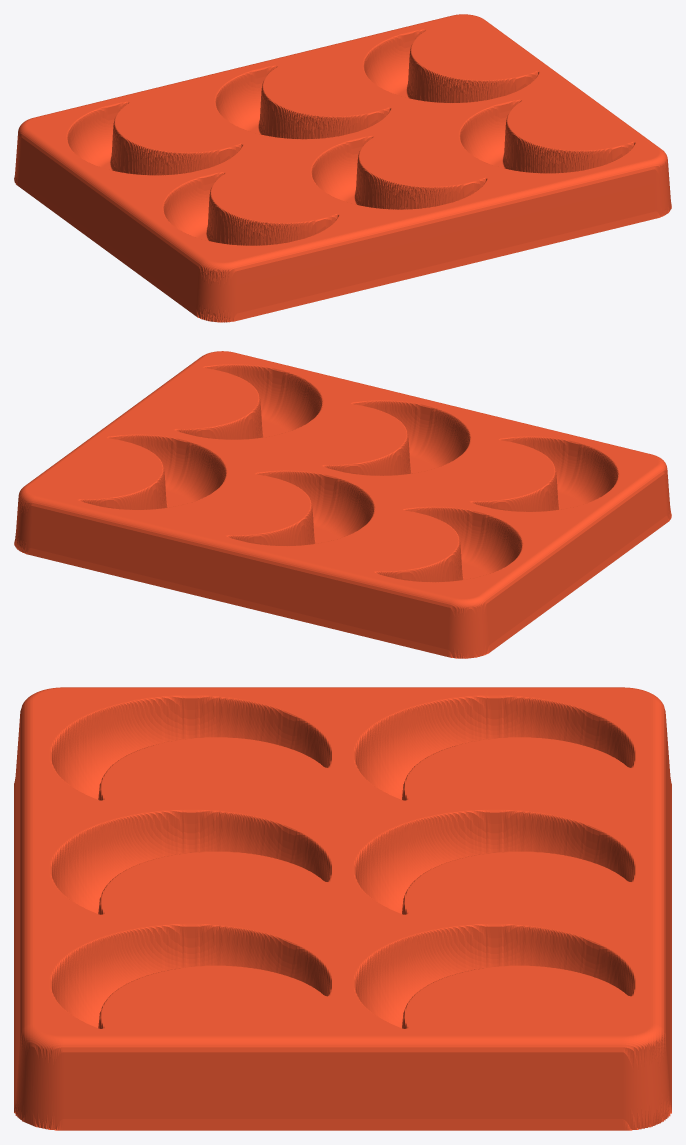
The model's file is mold.glb.
3 views of the same model, one above another, from view 1: azimuth 30°, elevation 25°; view 2: azimuth 150°, elevation 25°; view 3: azimuth 270°, elevation 25° (orthographic). The views are drawn at different scales.
Parts seen in each view (by area): view 1: geometry_0; view 2: geometry_0; view 3: geometry_0.
Part boxes in pixels (x1,y1,x2,y2): geometry_0: (14,14,671,322); geometry_0: (14,351,671,658); geometry_0: (14,687,671,1130).
Size of the model in its own units: 0.1586 by 0.0175 by 0.1211.
